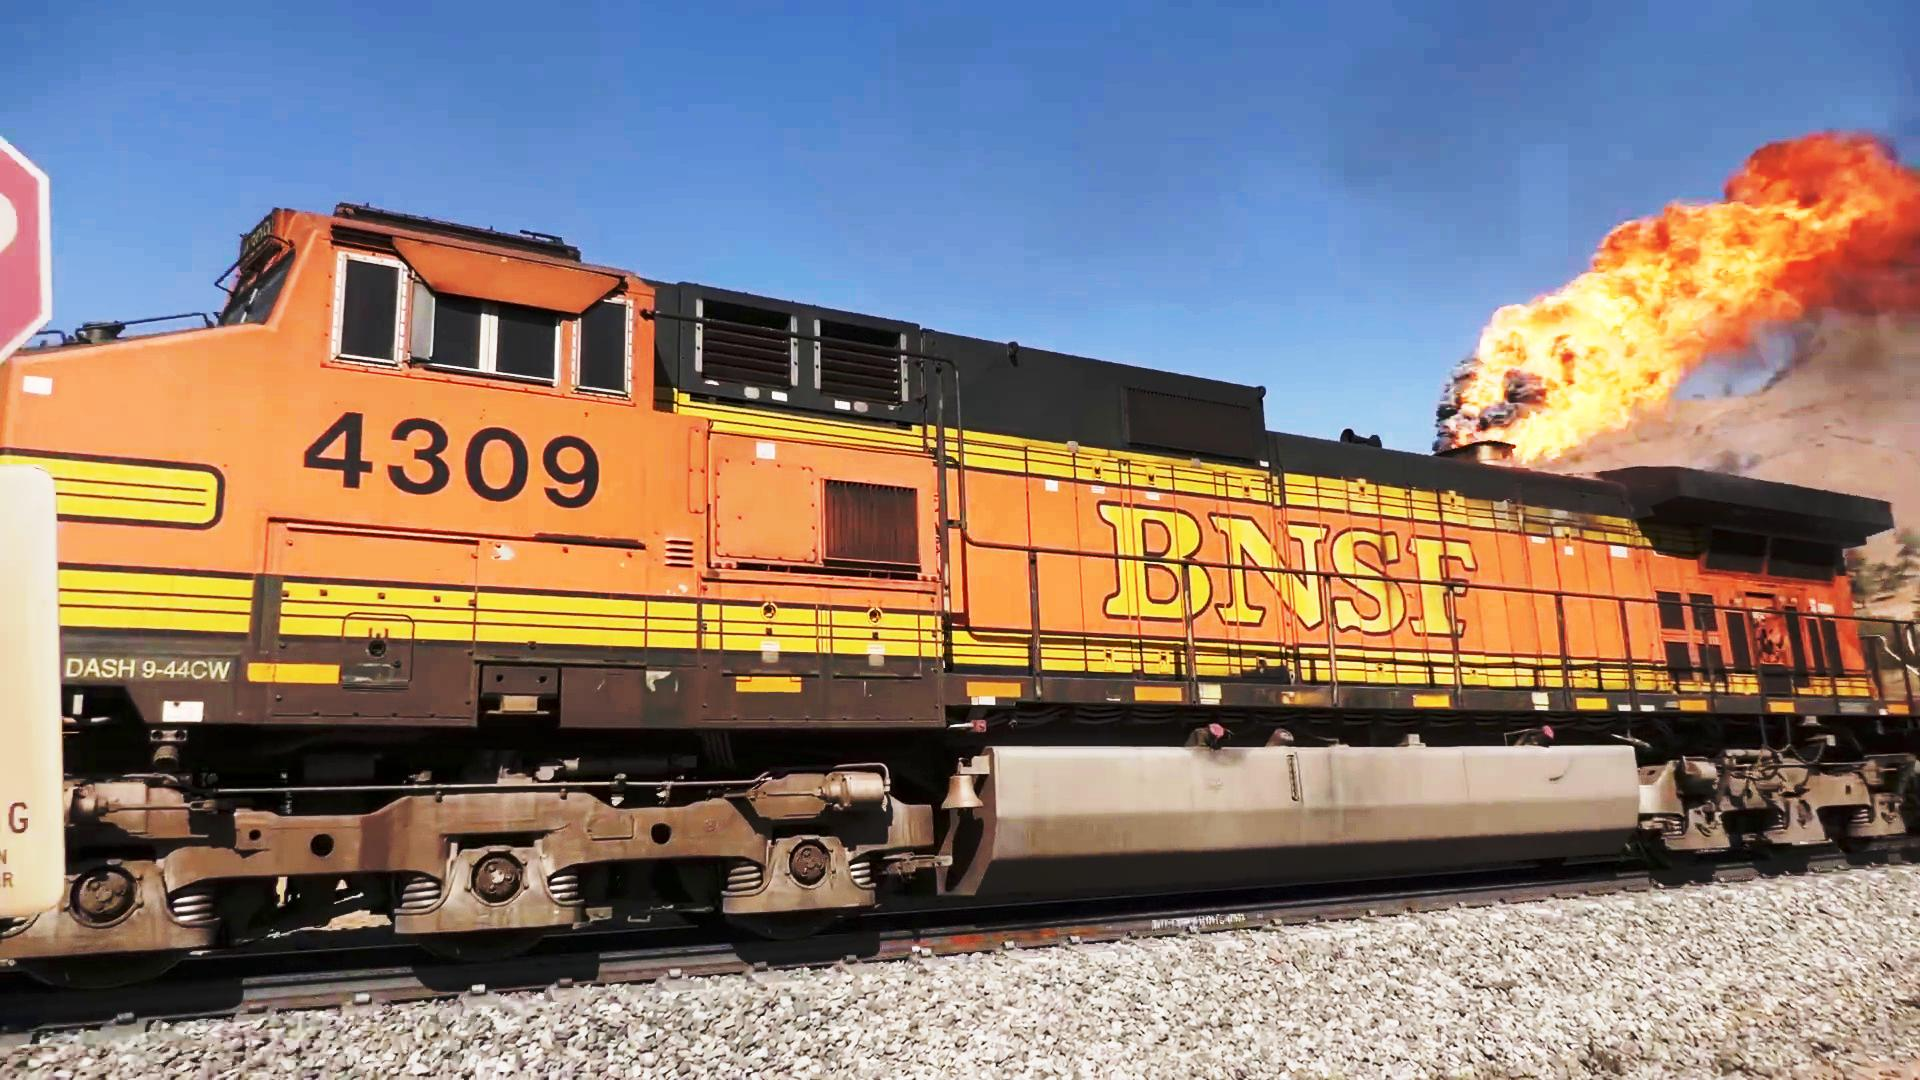fire: (1617, 116, 1905, 356), (1465, 233, 1671, 488)
